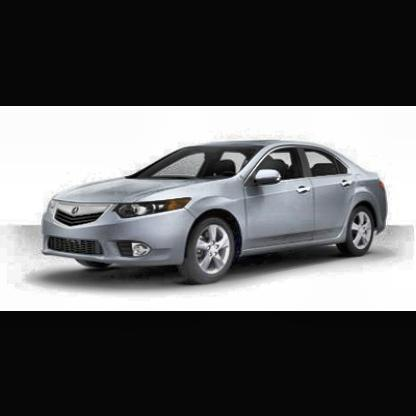Acura TSX Sedan 2012: (41, 137, 396, 290)
